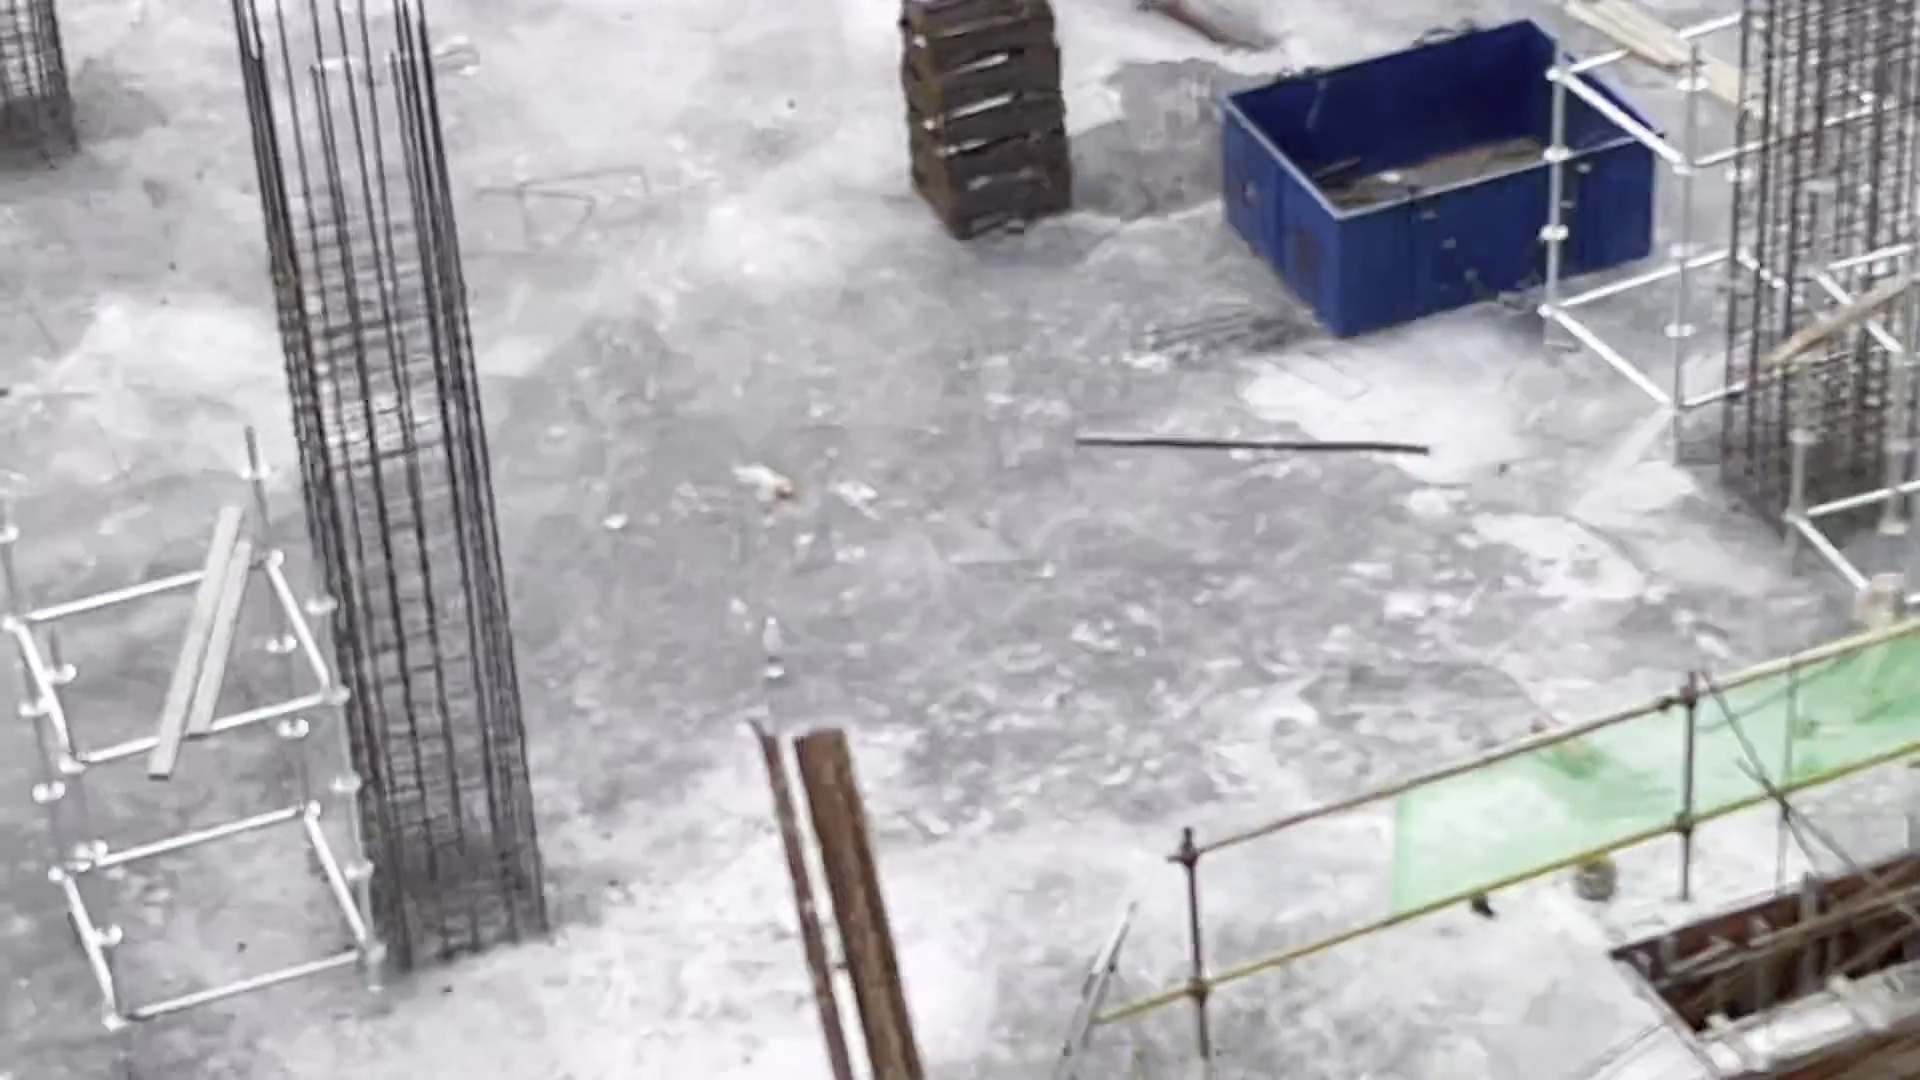hopper: (1213, 22, 1662, 339)
